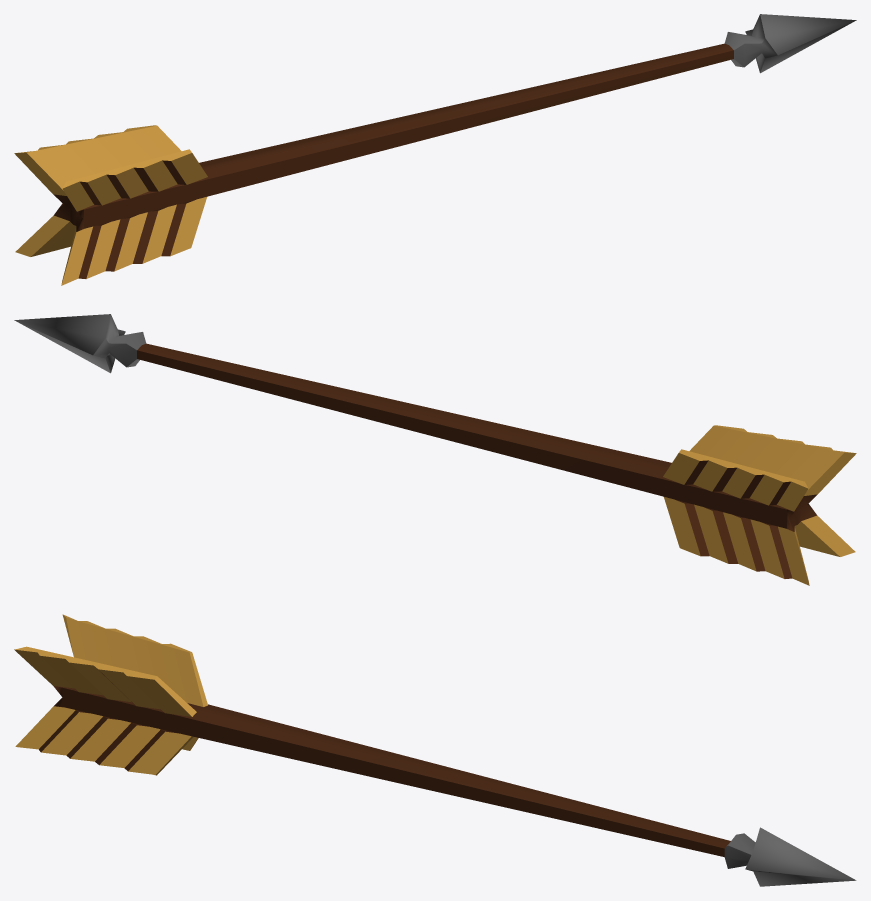
File: Arrow.fbx
3 views of the same model, one above another, from view 1: azimuth 30°, elevation 25°; view 2: azimuth 150°, elevation 25°; view 3: azimuth 330°, elevation 25° (orthographic).
Parts seen in each view (by area): view 1: pCube1; view 2: pCube1; view 3: pCube1.
Part boxes in pixels (box(x1,y1,x2,y2)): pCube1: box(14, 14, 856, 285); pCube1: box(14, 314, 856, 585); pCube1: box(14, 614, 856, 886).
Bounding box in the file's own units: 22.36 × 2.65 × 2.29.
